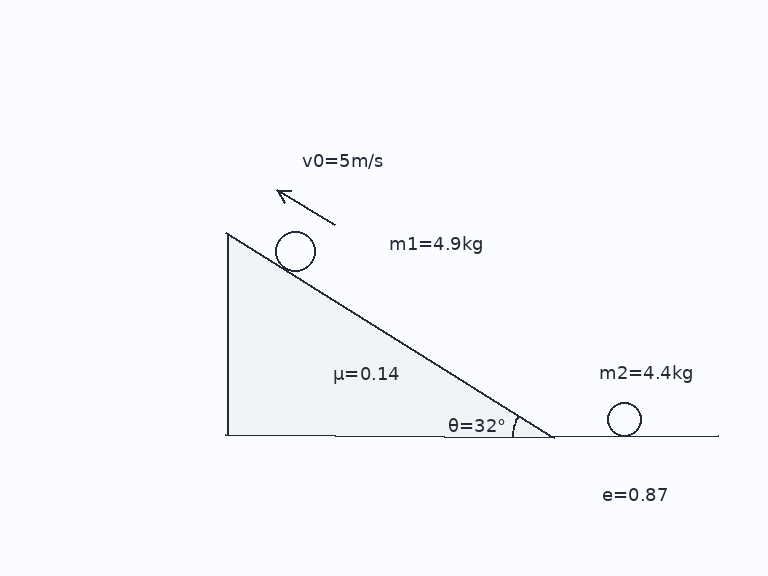ball: (273, 229, 317, 273), (605, 400, 643, 438)
ramp: (224, 230, 555, 438)
